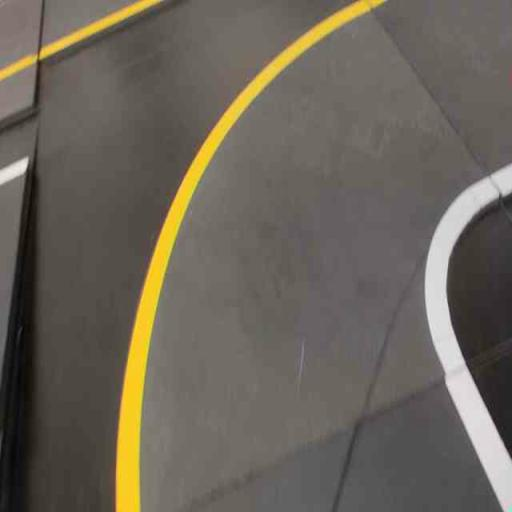right: (87, 0, 511, 511)
